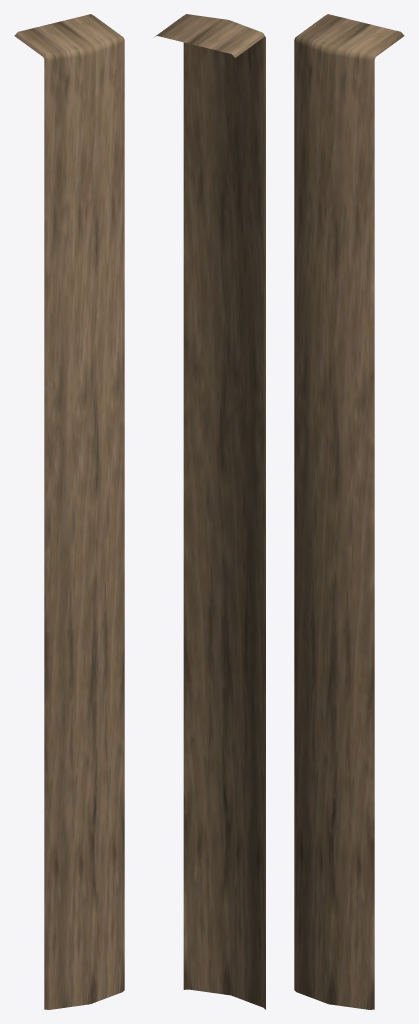
The model's file is environment_common_liusha_001_a.FBX.
The picture shows the model from 3 angles, left to right: view 1: azimuth 30°, elevation 25°; view 2: azimuth 150°, elevation 25°; view 3: azimuth 330°, elevation 25°; orthographic projection. The views are drawn at different scales.
Visible parts, largest first — view 1: environment_common_liusha_001_a; view 2: environment_common_liusha_001_a; view 3: environment_common_liusha_001_a.
Part boxes in pixels (x1,y1,x2,y2): environment_common_liusha_001_a: (14,14,124,1009); environment_common_liusha_001_a: (155,14,265,1009); environment_common_liusha_001_a: (294,14,404,1009).
Size of the model in its own units: 225 by 2561 by 175.
